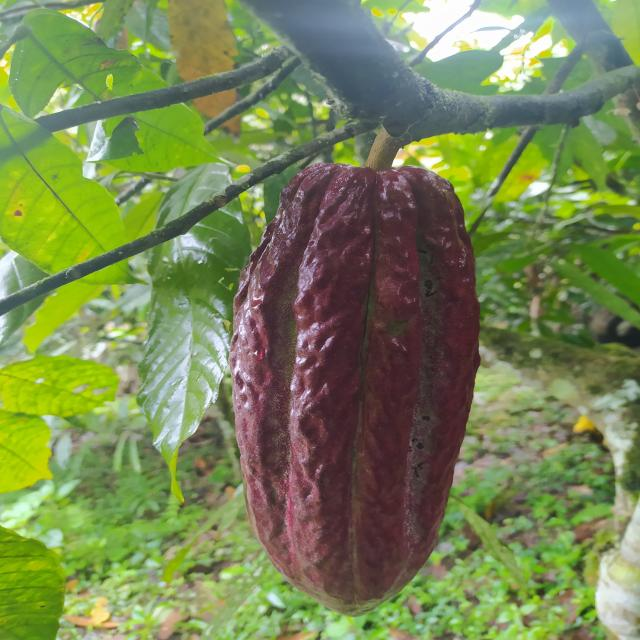Sana: (227, 164, 481, 613)
